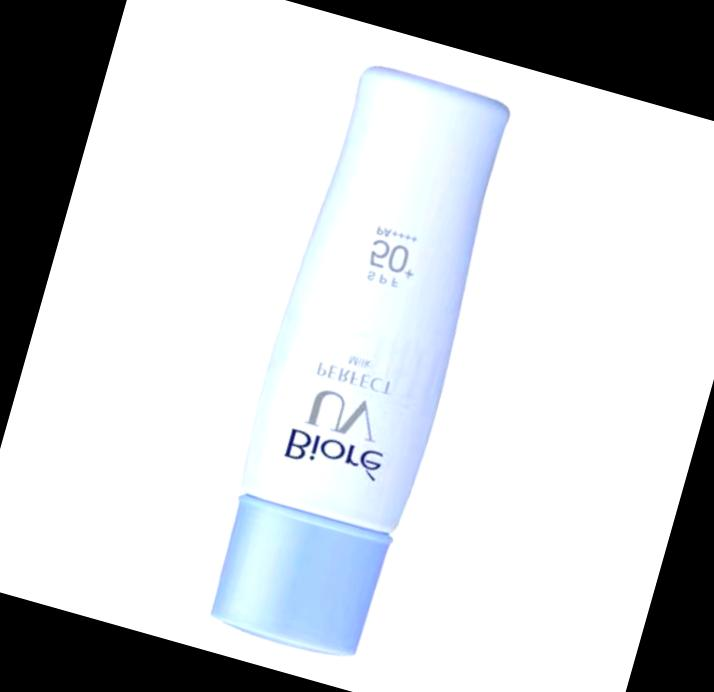cosmetic: (191, 59, 532, 668)
